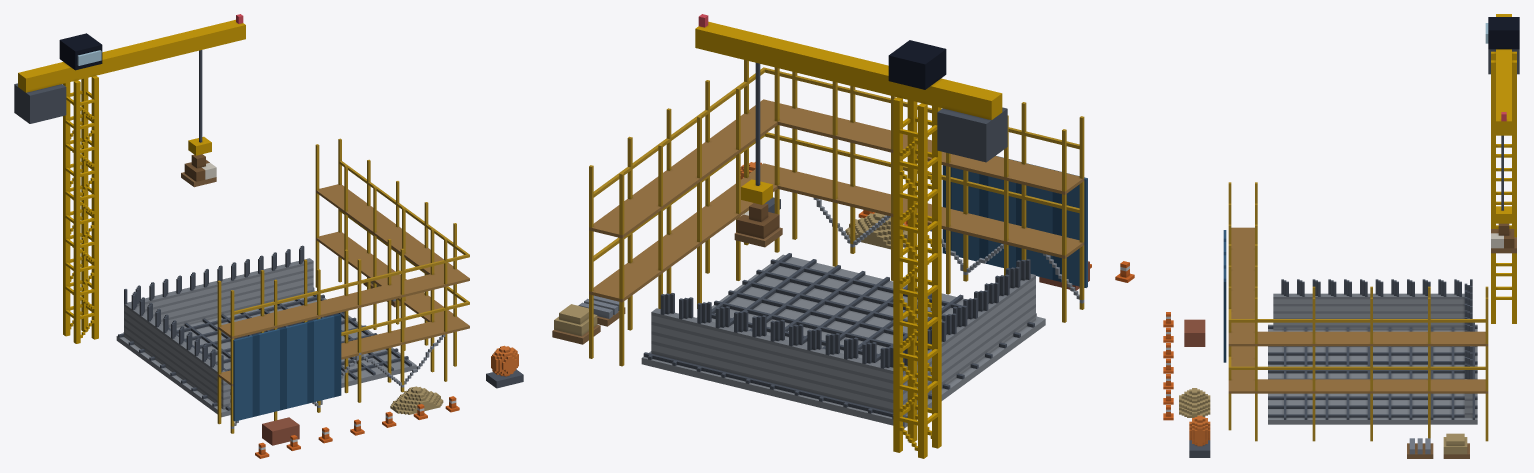
File: training_scaffold.glb
3 views of the same model, side by side, from view 1: azimuth 30°, elevation 25°; view 2: azimuth 150°, elevation 25°; view 3: azimuth 270°, elevation 25° (orthographic). The views are drawn at different scales.
Visible parts, largest first — view 1: Base; view 2: Base; view 3: Base.
Boxes of the visible parts, box(x1,y1,x2,y2) form: Base: box(14, 14, 523, 458); Base: box(552, 14, 1134, 458); Base: box(1163, 14, 1519, 458).
Bounding box in the file's own units: 15.3 × 12.4 × 13.6.
